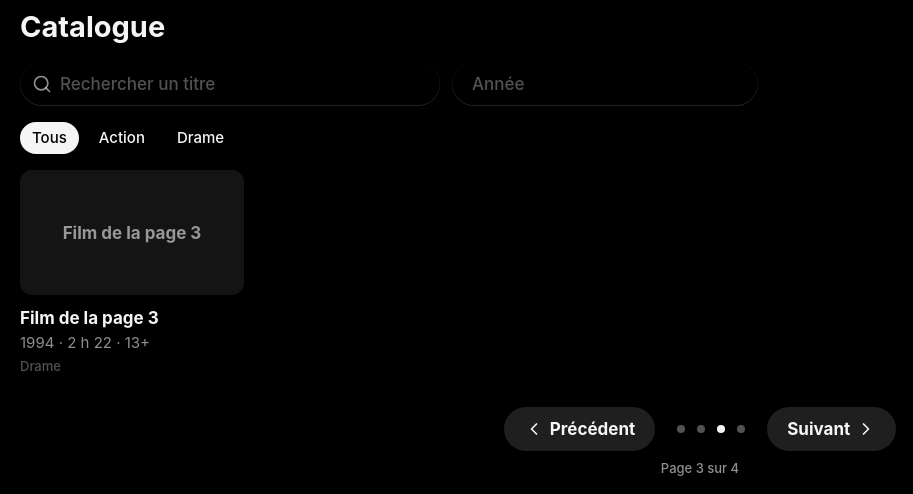
filtres du catalogue (spec 09) › cherche un titre pendant la frappe, une fois la pause faite, en revenant en page 1
The image size is (913, 494).
Expected: the text "Page 3 sur 4" is shown, [661,459,739,477]
Step 1. Type "par" into the search field labelled "Rechercher un titre" → (240, 84), box [60,73,420,95]
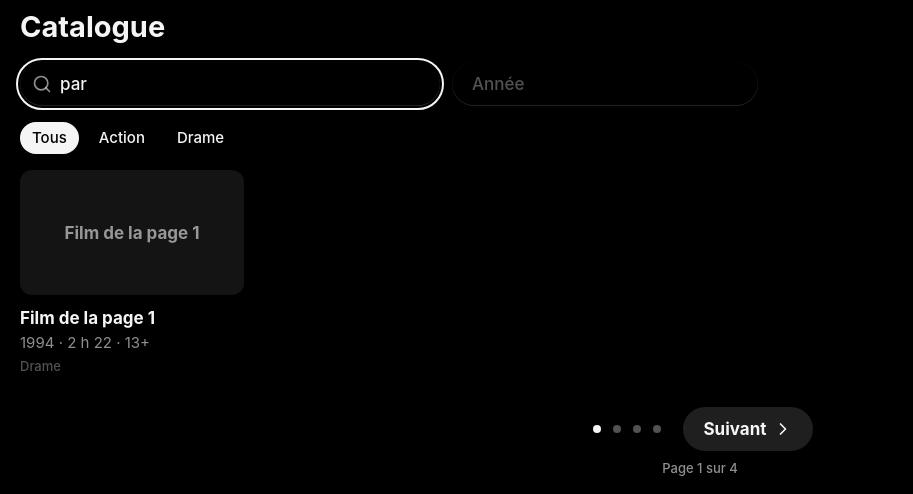
Expected: the text "Page 1 sur 4" is shown, [662,459,738,477]
